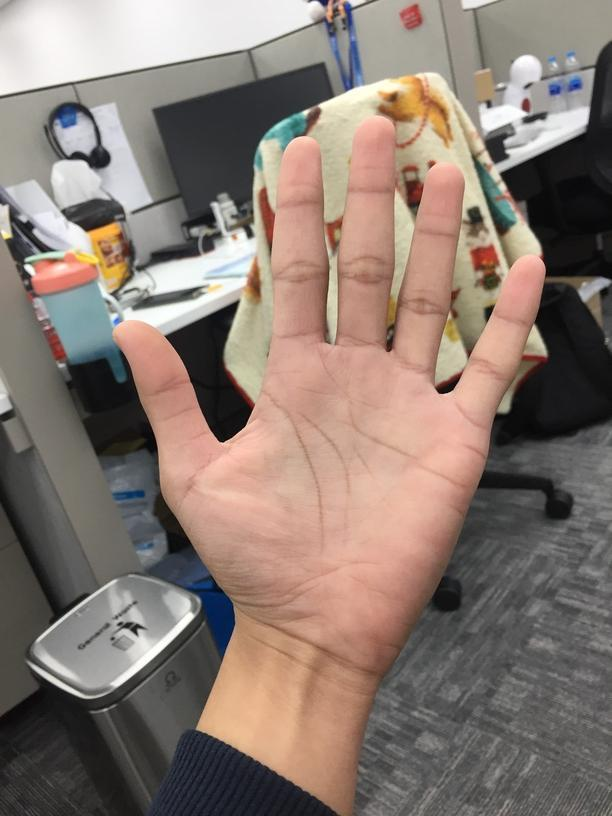hand: (113, 112, 548, 676)
